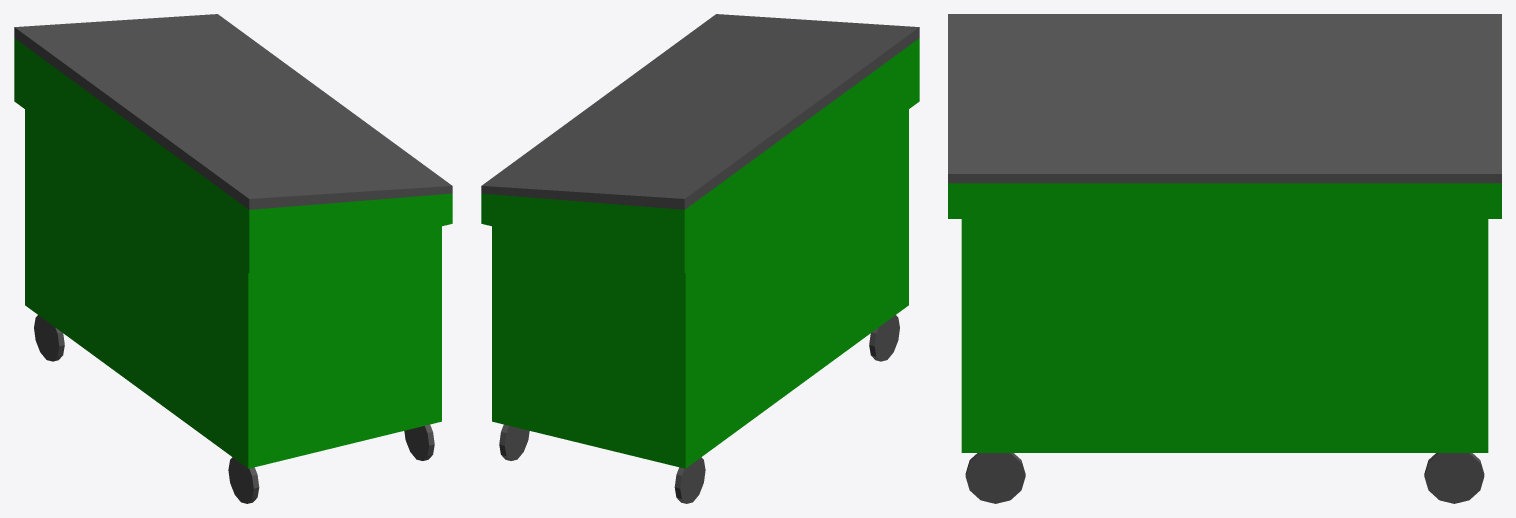
The model's file is Dumpster.fbx.
3 renders of one model, left to right at view 1: azimuth 30°, elevation 25°; view 2: azimuth 150°, elevation 25°; view 3: azimuth 270°, elevation 25°, orthographic. The views are drawn at different scales.
Visible parts, largest first — view 1: Dumpster; view 2: Dumpster; view 3: Dumpster.
Boxes of the visible parts, <box> form: Dumpster: <box>14,14,452,503</box>; Dumpster: <box>481,14,919,503</box>; Dumpster: <box>948,14,1501,503</box>.
Bounding box in the file's own units: 19.11 × 28.84 × 38.22.
